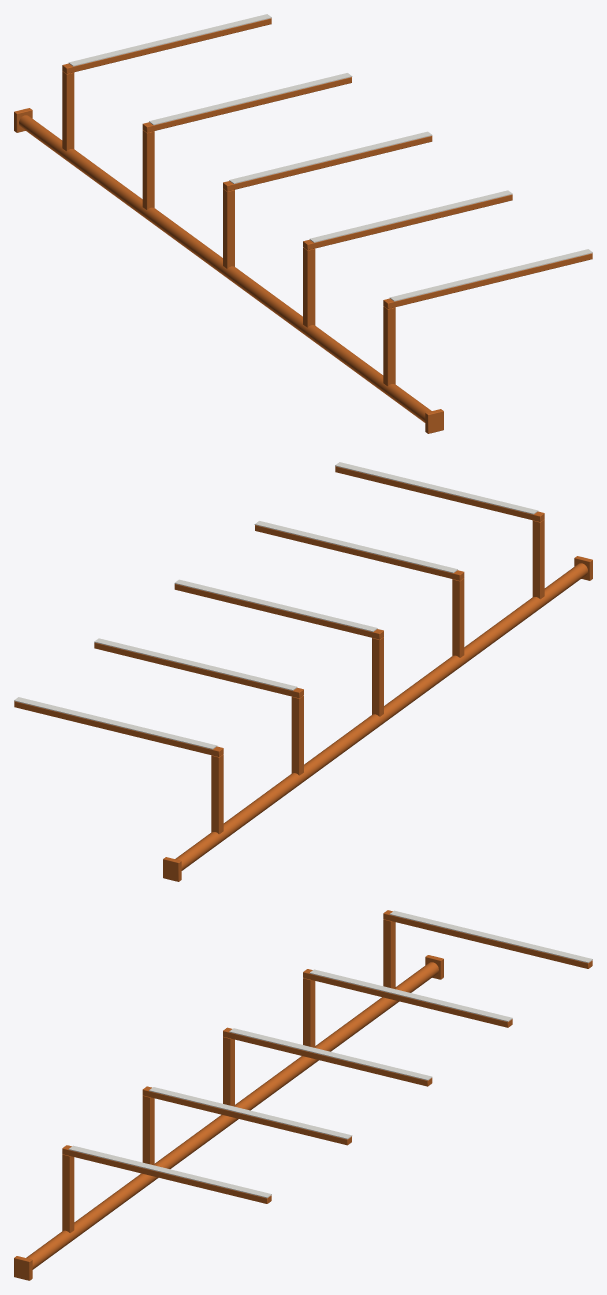
Rendered from stacker_forks.glb.
3 renders of one model, top to bottom at view 1: azimuth 30°, elevation 25°; view 2: azimuth 150°, elevation 25°; view 3: azimuth 330°, elevation 25°, orthographic.
Visible parts, largest first — view 1: Forks, ForkWear; view 2: Forks, ForkWear; view 3: Forks, ForkWear.
Part boxes in pixels (bbox=[...]): Forks: bbox=[14, 18, 592, 433]; ForkWear: bbox=[68, 14, 592, 301]; Forks: bbox=[14, 466, 592, 881]; ForkWear: bbox=[14, 462, 538, 749]; Forks: bbox=[14, 910, 592, 1280]; ForkWear: bbox=[68, 910, 592, 1198].
Size of the model in its own units: 1.58 by 0.71 by 5.42.
